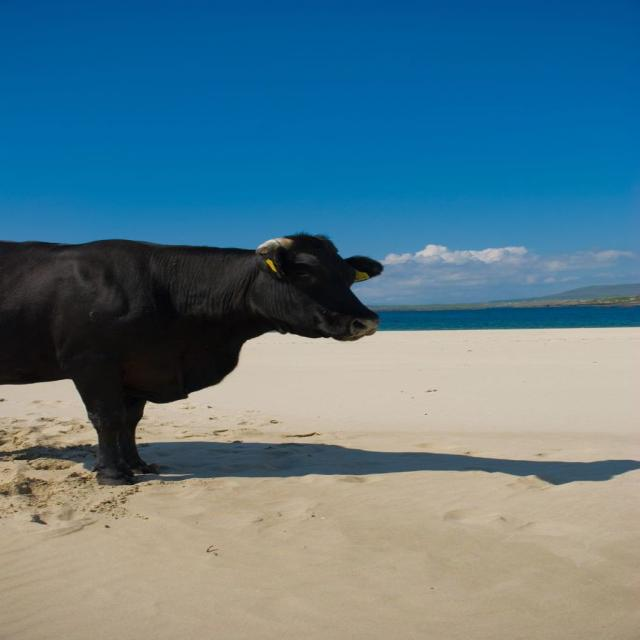Deer: (0, 227, 389, 488)
